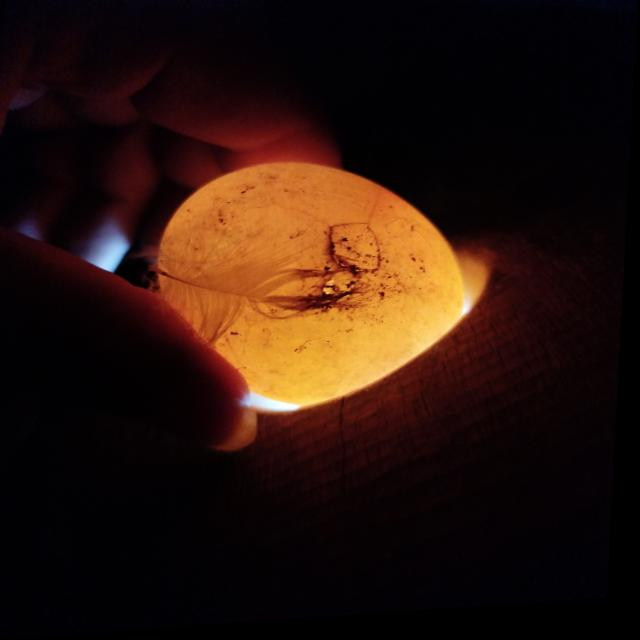Rachadura: (334, 229, 382, 275)
